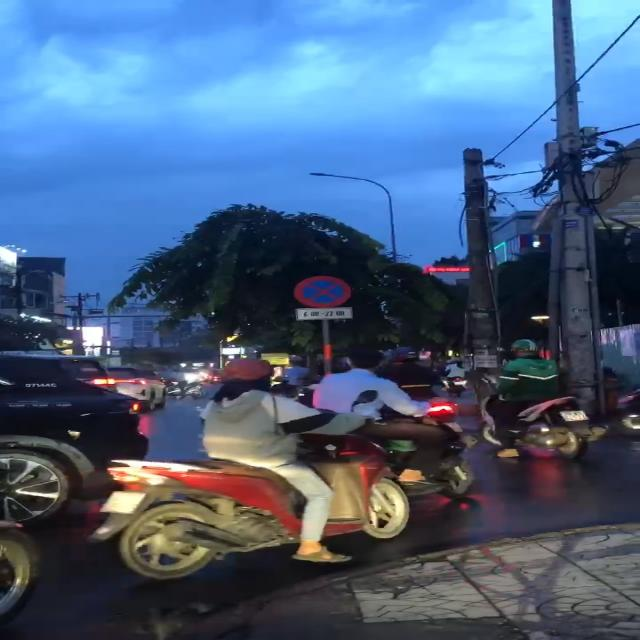Bien bao cam dung xe va do xe: (287, 274, 359, 308)
